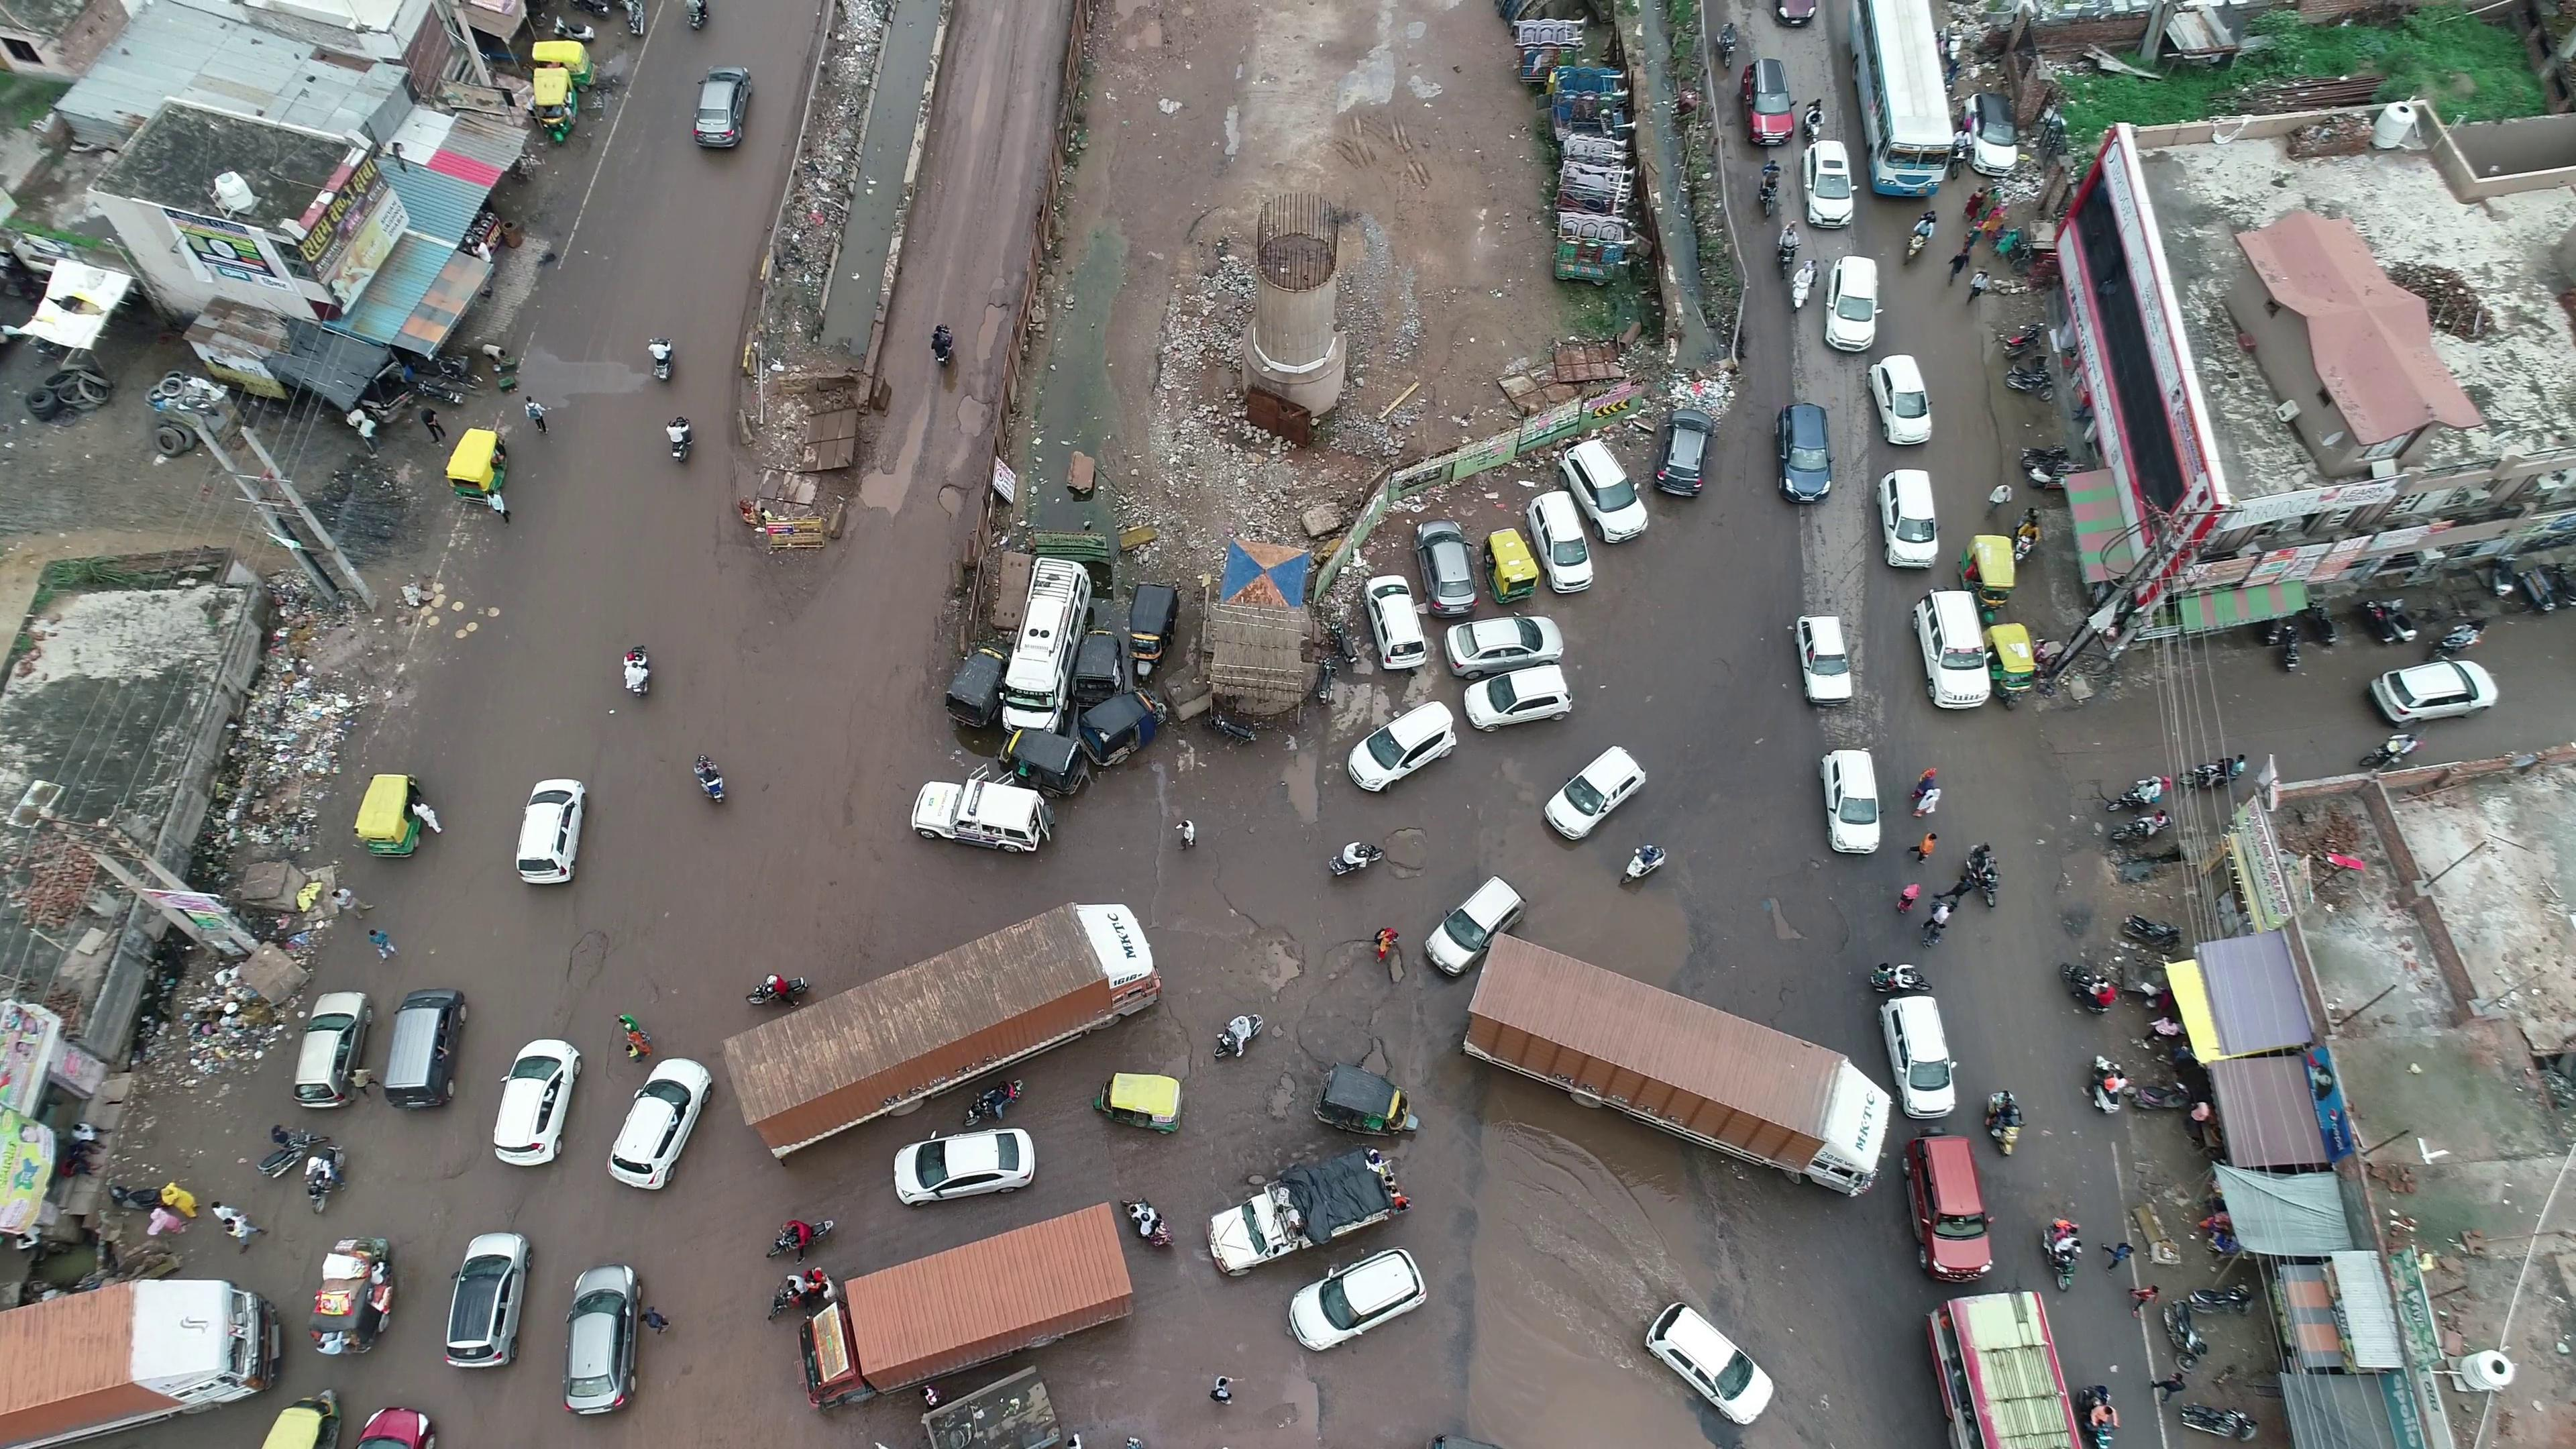Potholes: (1226, 922, 1428, 1074), (1235, 1060, 1318, 1191), (1376, 812, 1444, 906)
